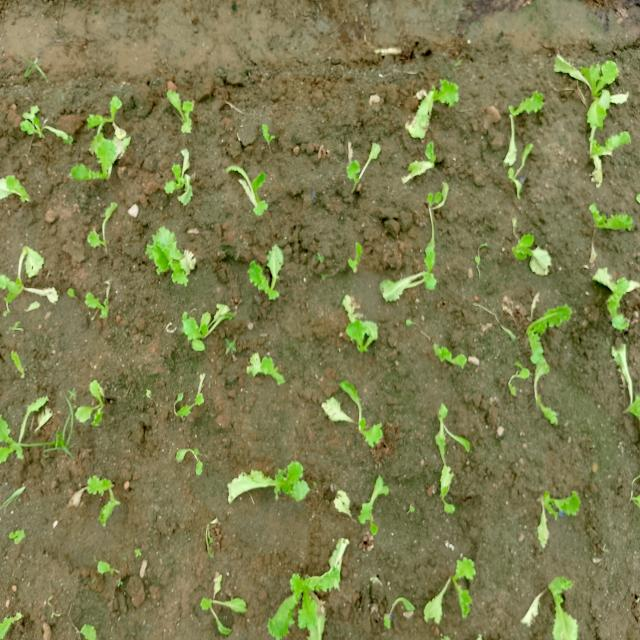Lettuce: (502, 292, 568, 429), (257, 552, 356, 636), (417, 540, 494, 632), (498, 81, 552, 204), (520, 471, 586, 556), (318, 379, 393, 453), (518, 557, 586, 637), (65, 110, 137, 183), (0, 391, 75, 461), (234, 457, 317, 518), (326, 286, 391, 363), (192, 560, 256, 634), (0, 247, 66, 315), (564, 57, 630, 124), (77, 188, 127, 273), (436, 398, 471, 517), (142, 224, 205, 289), (410, 189, 468, 259), (405, 75, 464, 141), (585, 264, 639, 334), (77, 541, 142, 597), (245, 245, 298, 308), (332, 480, 390, 537), (603, 342, 640, 431), (338, 143, 391, 204), (70, 464, 128, 518), (180, 306, 244, 352), (219, 164, 280, 212), (12, 105, 75, 150), (72, 377, 119, 434), (508, 231, 562, 280), (582, 203, 640, 246), (379, 272, 445, 305), (67, 284, 135, 316), (402, 141, 448, 187), (236, 351, 291, 389), (426, 340, 472, 381), (164, 90, 204, 136), (0, 164, 34, 217), (380, 578, 412, 633), (0, 592, 35, 640), (169, 389, 214, 424), (167, 443, 208, 479), (248, 112, 284, 150), (333, 237, 369, 274), (3, 512, 39, 543), (8, 343, 37, 381), (74, 625, 110, 640)
